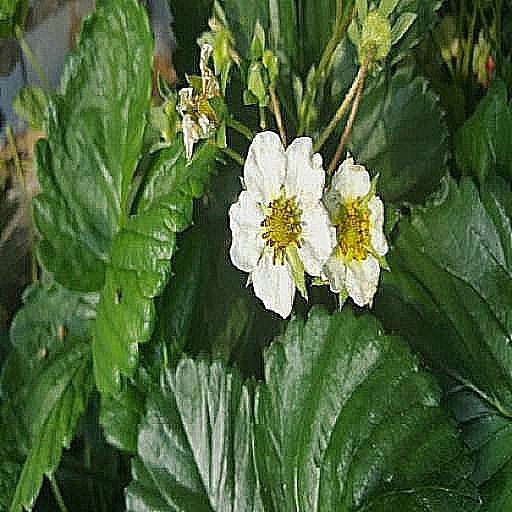Blossom Blight: (255, 243, 306, 316), (331, 247, 374, 315)
